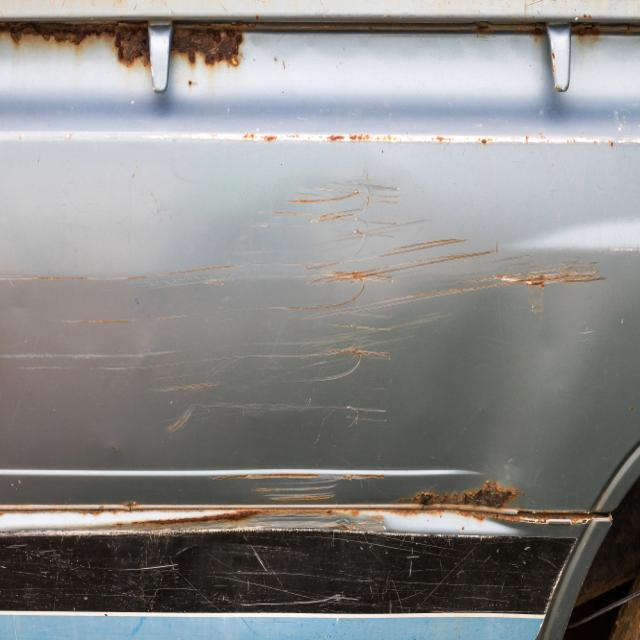scratch: (0, 184, 617, 432), (0, 475, 485, 608)
